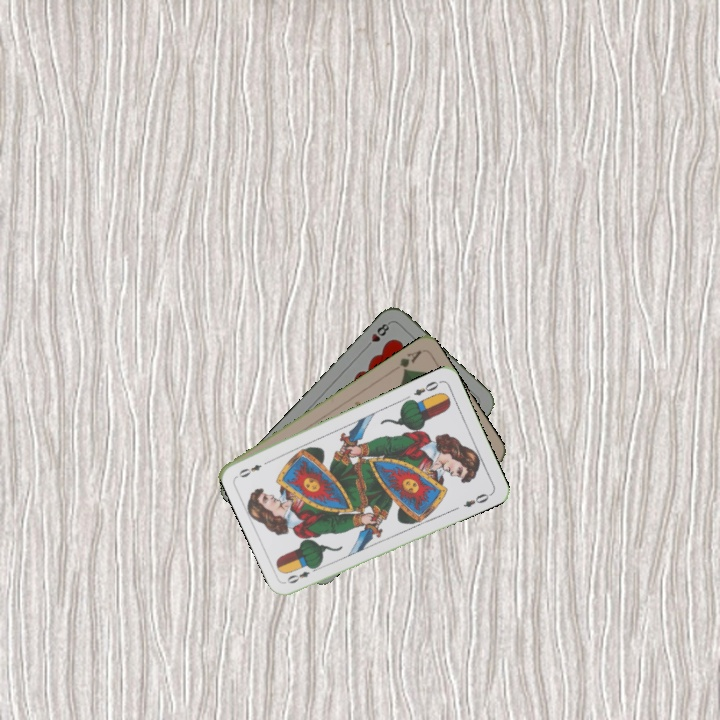EO: (283, 562, 321, 586), (410, 377, 444, 398)
GA: (395, 346, 424, 375)
H8: (361, 318, 393, 351)
